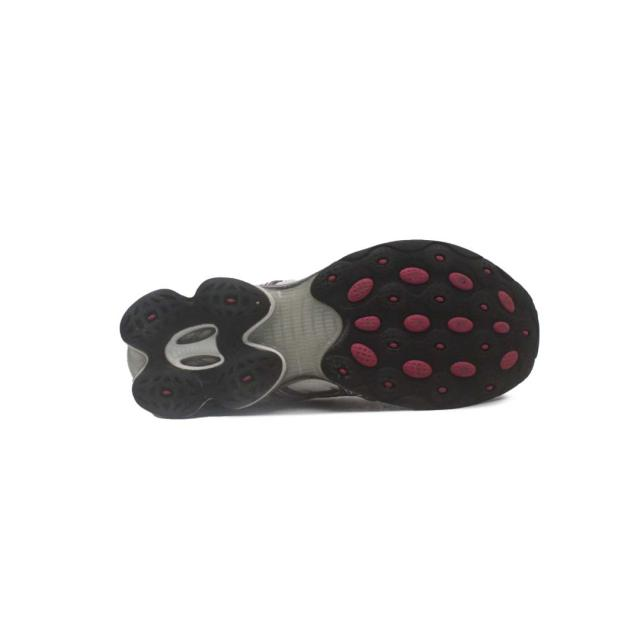outersole: (120, 240, 539, 420)
